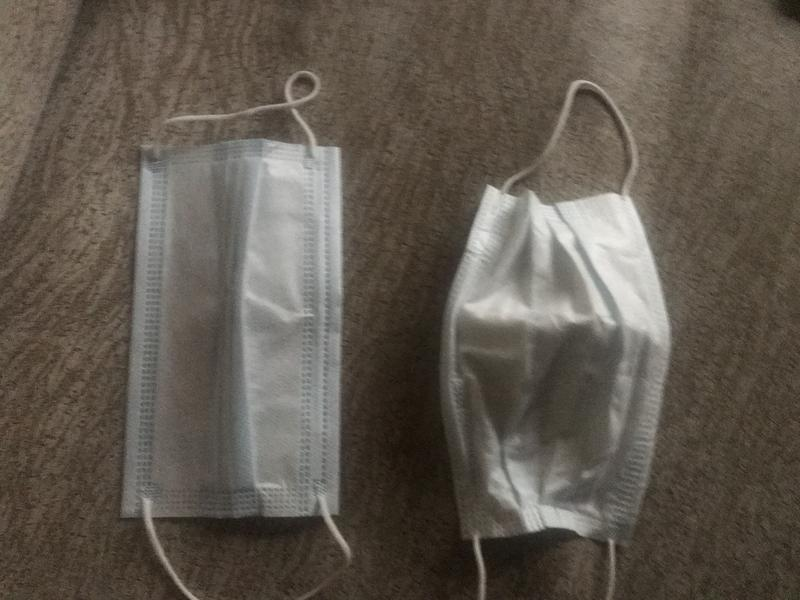medical_mask: (436, 79, 671, 600), (126, 69, 352, 598)
